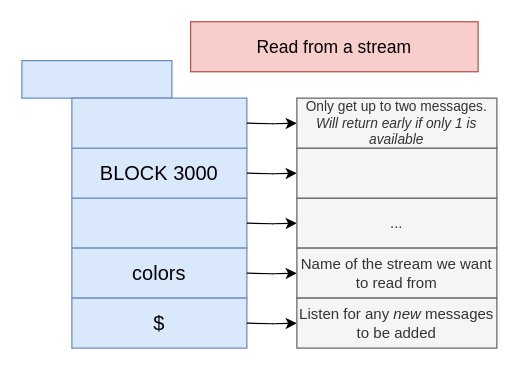
The diagram is 519 pixels wide and 371 high, and some of its shapes have lost their labels. Each missing label, with the centre of its shape:
COUNT 2: pixel 159 122
For 3 seconds, do nothing but wait for a new record to be added: pixel 396 172
STREAMS: pixel 159 222
XREAD: pixel 96 78
